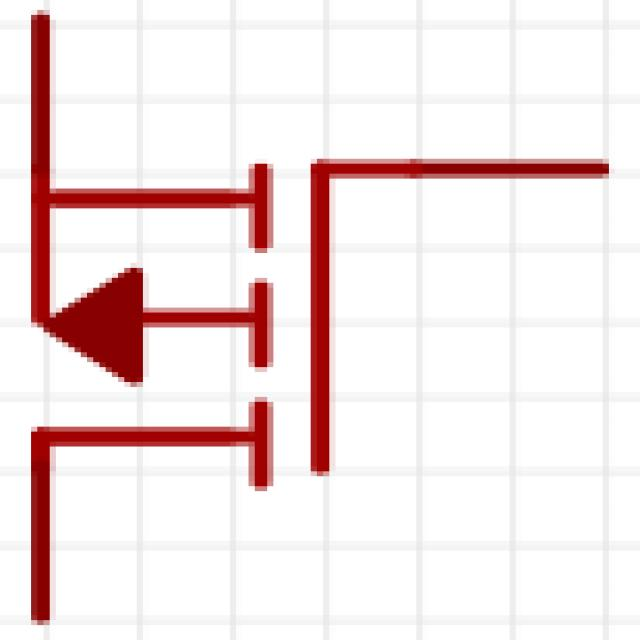pmos: (15, 14, 636, 595)
